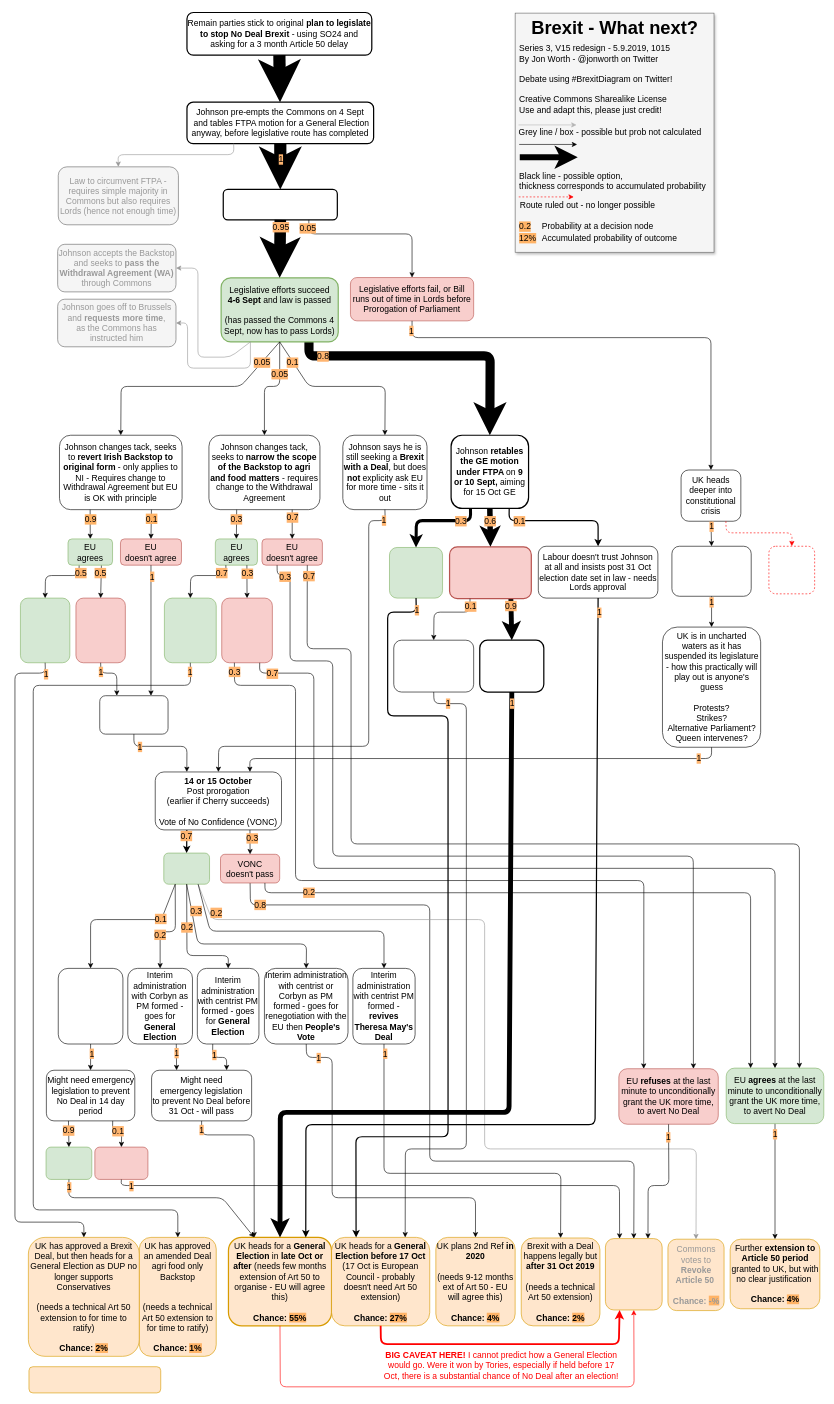
The diagram is 834 pixels wide and 1404 high, and some of its shapes have lost their labels. The centre of each missing label's shape, as x and y in pixels:
"Cherry et al case failed 4 Sep" belongs at point 791,570.
"Commons votes against Deal with agrifood backstop" belongs at point 246,630.
"Commons votes against Deal with original backstop" belongs at point 100,630.
"Commons votes in favour of Deal with agrifood backstop" belongs at point 190,630.
"Commons votes in favour of Deal with original backstop" belongs at point 45,630.
"Cumulative Chance GE: 84% Cumulative Chance Deal: 5%" belongs at point 94,1379.
"DUP furious at Johnson's approach" belongs at point 133,714.
"Johnson does not keep his word, holds election earlier (prob 15 Oct)" belongs at point 433,666.
"Johnson keeps his word, and holds election after 31 Oct" belongs at point 511,665.
"Labour is OK with this, so 2/3 majority achieved" belongs at point 416,572.
"Labour only accepts an election after 31 October, amends motion accordingly" belongs at point 490,572.
"Legislation doesn't pass" belongs at point 121,1162.
"Legislation passes" belongs at point 68,1162.
"No 2/3 majority for election under FTPA" belongs at point 280,204.
"No administration can be formed, so after 14 days UK goes for General Election" belongs at point 90,1006.
"No Deal Brexit looms on 31 October 2019, Chance: 5%" belongs at point 633,1274.
"Prorogation succeeds and Commons does not sit until 14 October" belongs at point 711,571.
"VONC passes" belongs at point 186,868.
